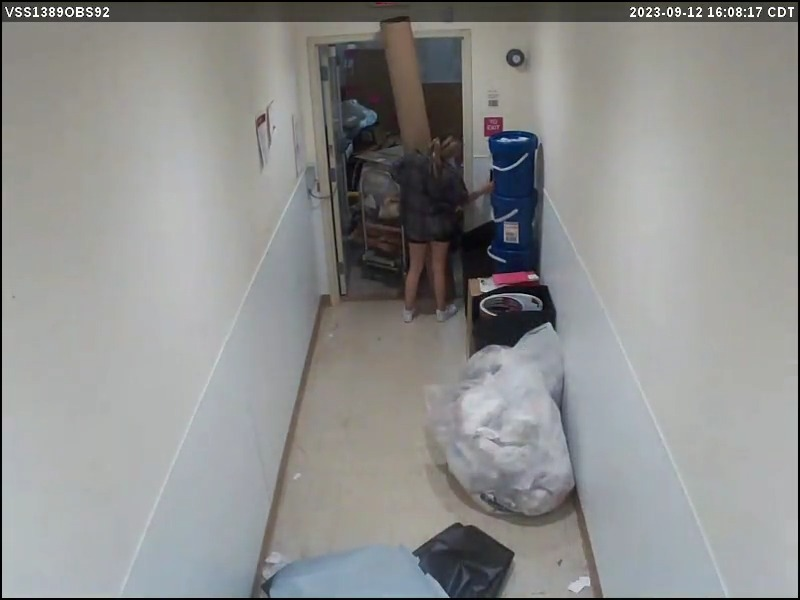No-gloves: (477, 177, 498, 200)
